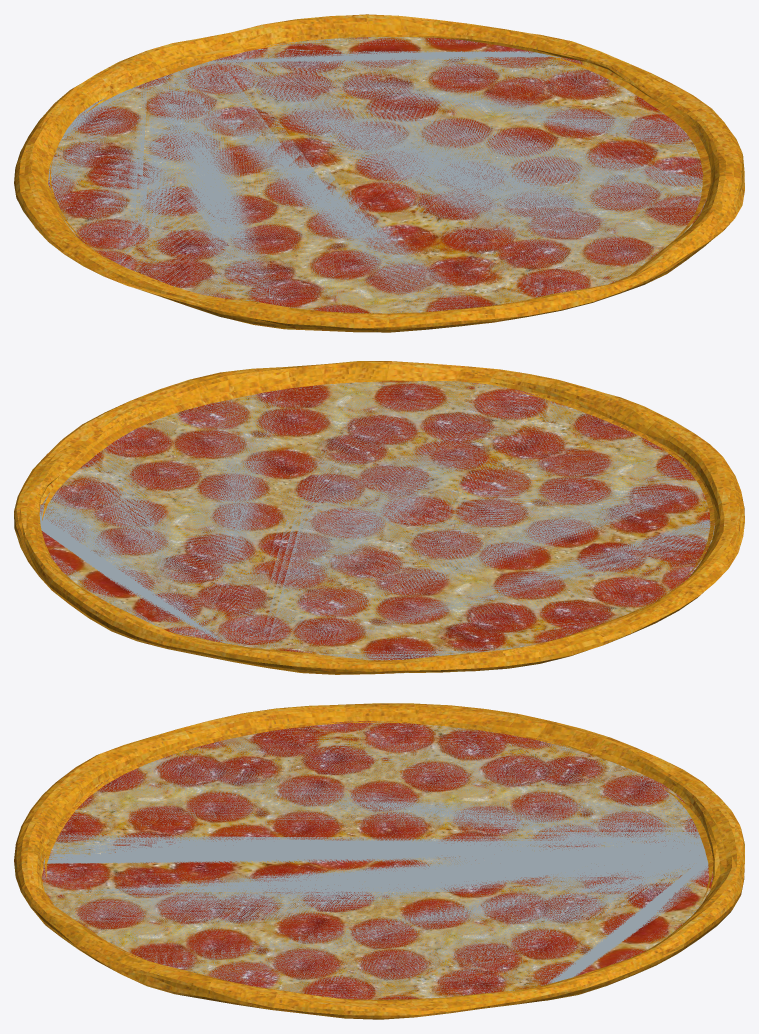
Rendered from otherpizza.dae.
3 views of the same model, one above another, from view 1: azimuth 30°, elevation 25°; view 2: azimuth 150°, elevation 25°; view 3: azimuth 270°, elevation 25° (orthographic).
Parts seen in each view (by area): view 1: skp9DB6 (×2); view 2: skp9DB6 (×2); view 3: skp9DB6 (×2).
Part boxes in pixels (x1=…): skp9DB6 (×2): x1=14, y1=14, x2=744, y2=332; skp9DB6 (×2): x1=14, y1=361, x2=744, y2=674; skp9DB6 (×2): x1=14, y1=703, x2=744, y2=1019.
Size of the model in its own units: 272 by 270 by 14.06.
3 materials, 2 textured.
